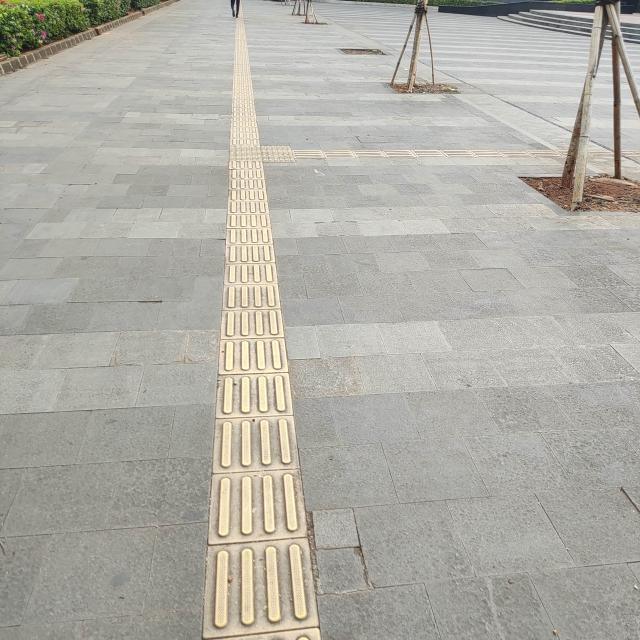lurus: (214, 164, 306, 640), (220, 0, 262, 134)
